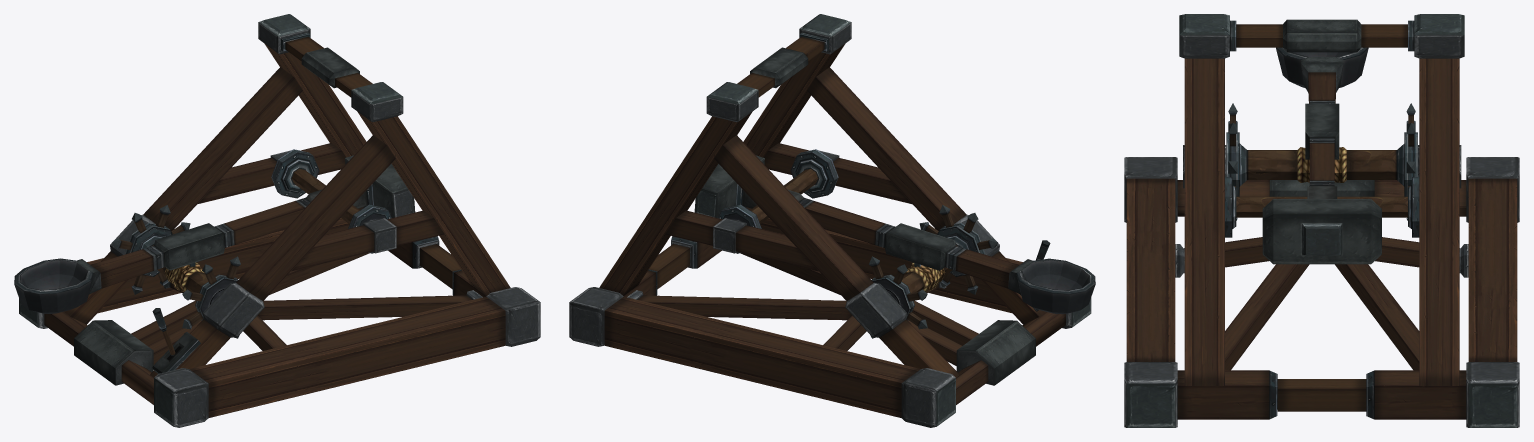
Rendered from catapult_type3.FBX.
3 views of the same model, side by side, from view 1: azimuth 30°, elevation 25°; view 2: azimuth 150°, elevation 25°; view 3: azimuth 270°, elevation 25° (orthographic). The views are drawn at different scales.
Parts seen in each view (by area): view 1: catapult3_a, catapult3_b; view 2: catapult3_a, catapult3_b; view 3: catapult3_a, catapult3_b.
Boxes of the visible parts, x1,y1,x2,y2 form: catapult3_a: (19, 14, 540, 427); catapult3_b: (14, 149, 415, 313); catapult3_a: (569, 14, 1091, 427); catapult3_b: (694, 149, 1095, 314); catapult3_a: (1124, 14, 1519, 427); catapult3_b: (1225, 47, 1419, 264).
Size of the model in its own units: 366 by 203 by 223.
